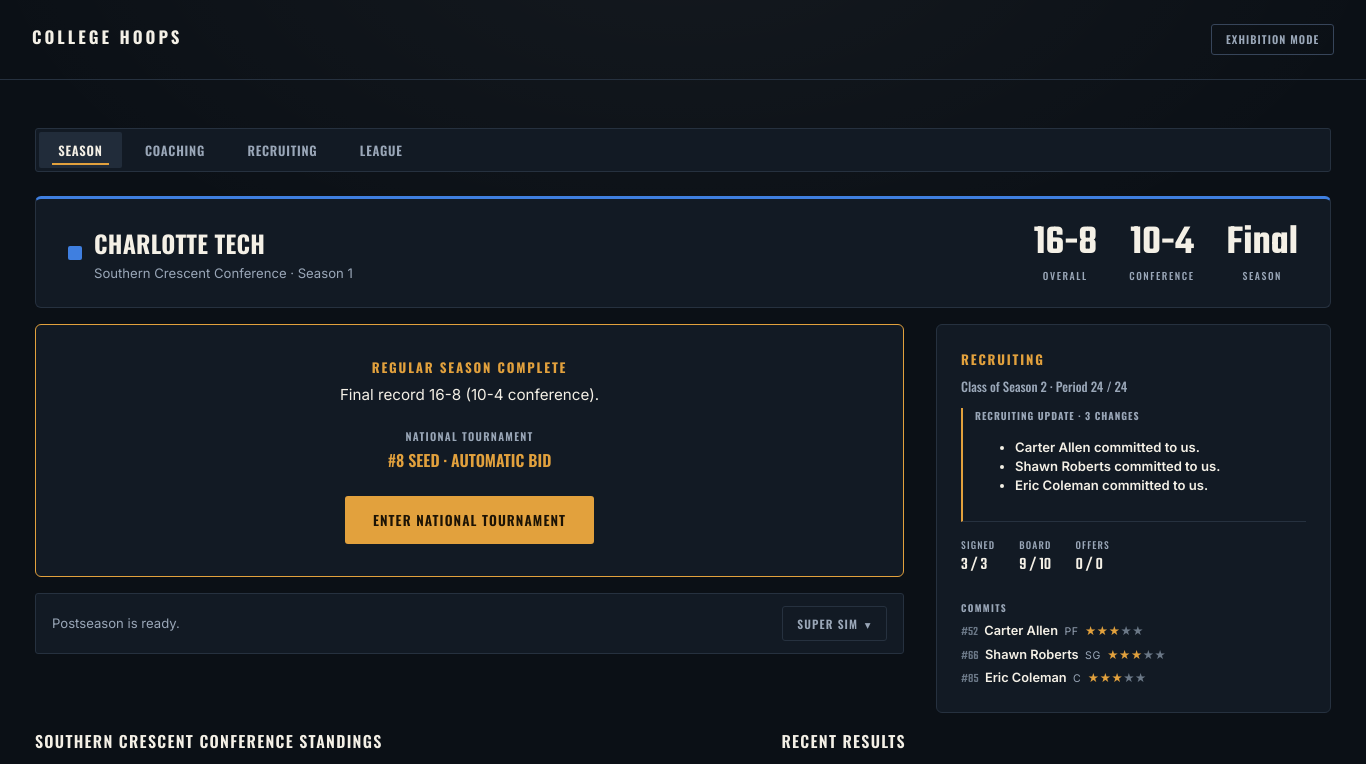
Test: Postseason transition › shows the National Tournament entry point once the regular season completes, and enters it
What coordinates should you click on to do the following:
click the button "Enter National Tournament"
I would click on:
 (470, 520)
Its box is [345,496,594,544].
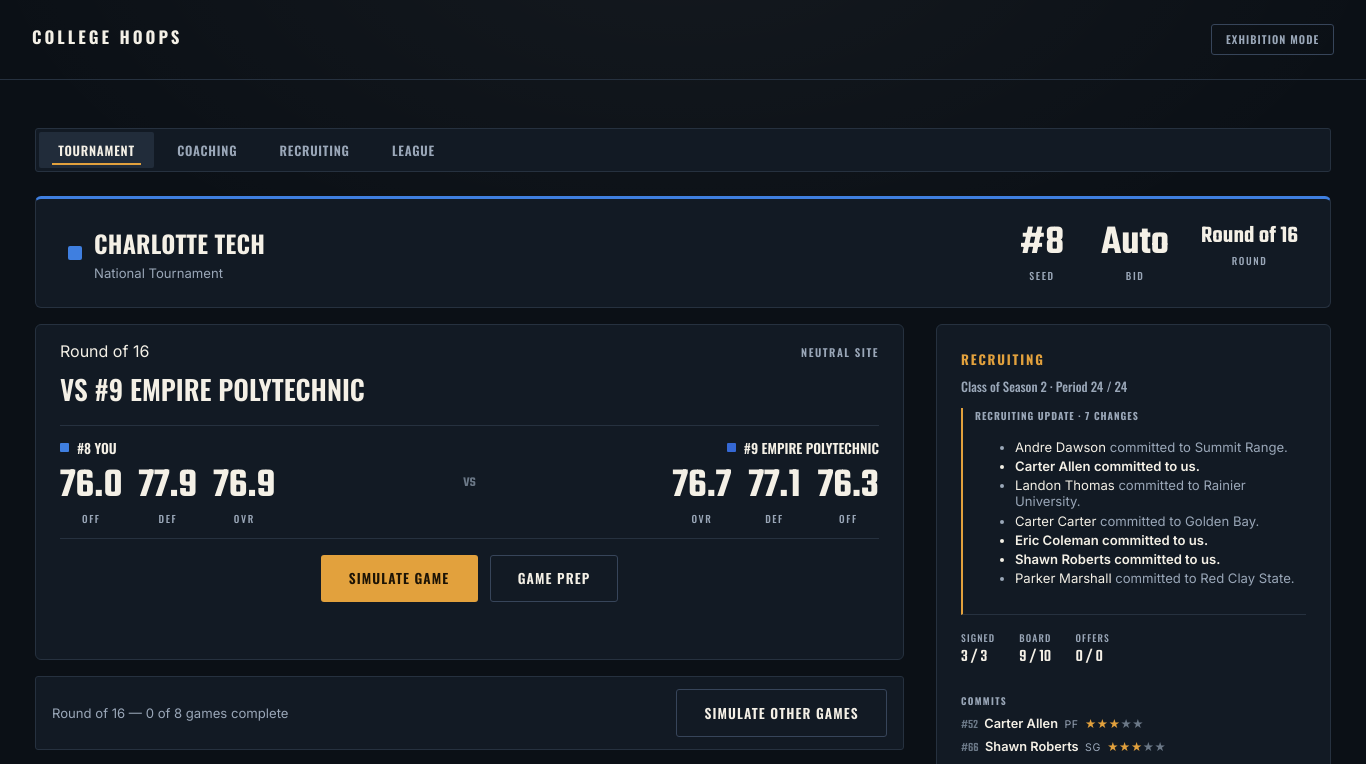
Now the text "National Tournament" is shown, box [94,265,223,281]
